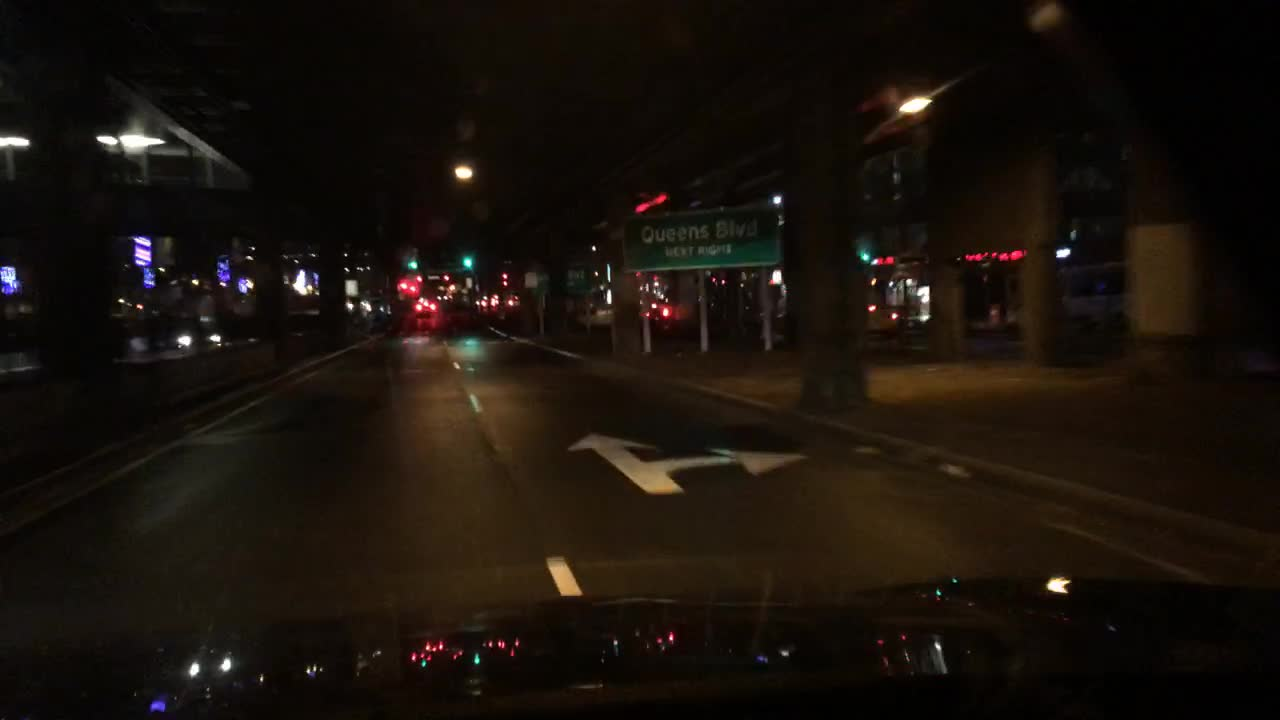car: (172, 322, 235, 351), (864, 299, 900, 327), (643, 299, 671, 321), (413, 300, 437, 317)
traffic light: (463, 250, 471, 269), (406, 283, 420, 292), (408, 248, 414, 267), (398, 280, 406, 291)
traffic sign: (624, 210, 775, 267), (524, 264, 593, 298)
